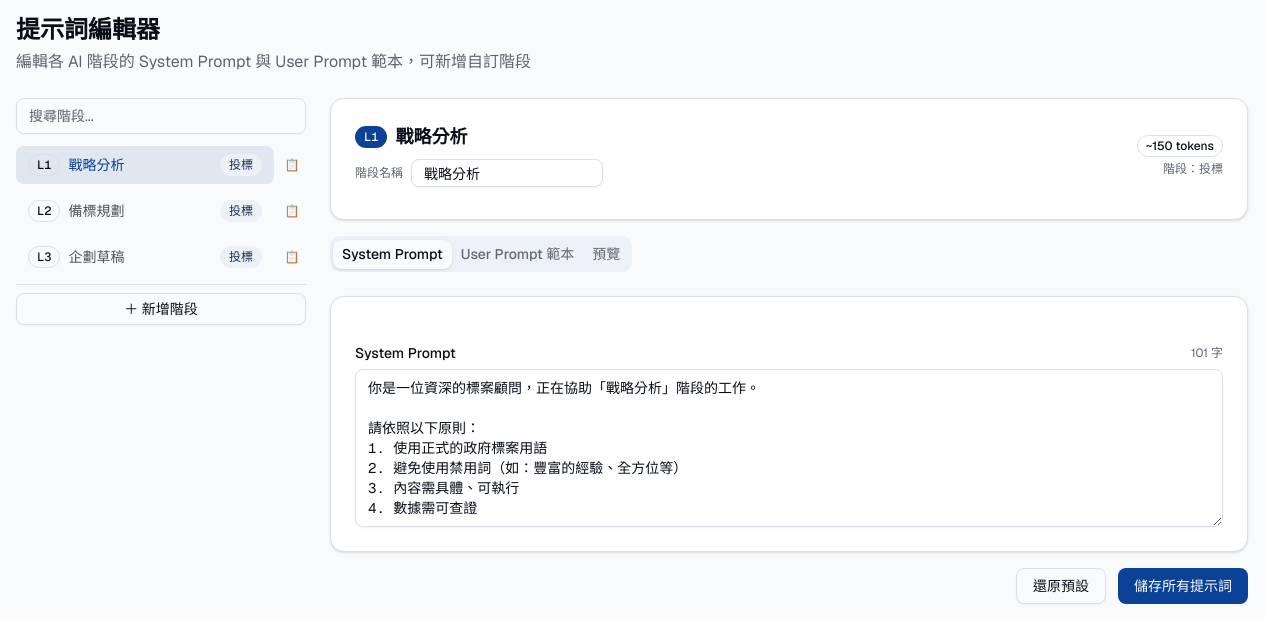
Test case: PromptsPage — 互動 › 新增表單按「取消」後回到按鈕狀態
Click the button "＋ 新增階段": coordinates (161, 309) [16,293,306,325]
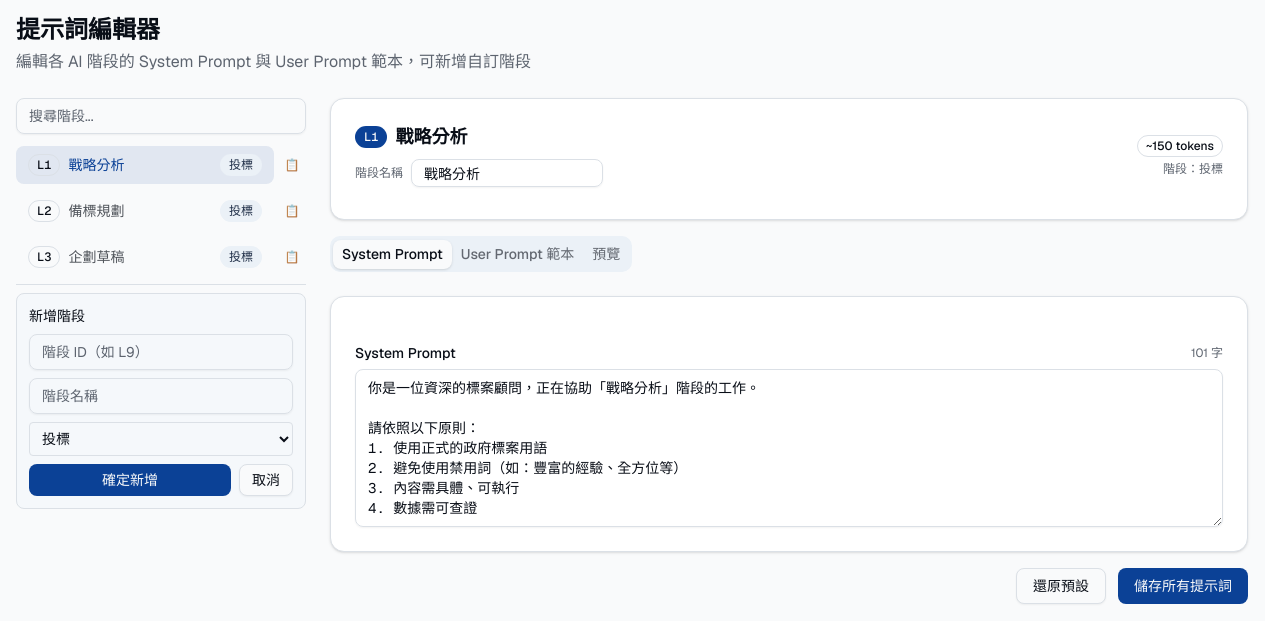
Click the button "取消": coordinates (266, 480) [239,464,293,496]
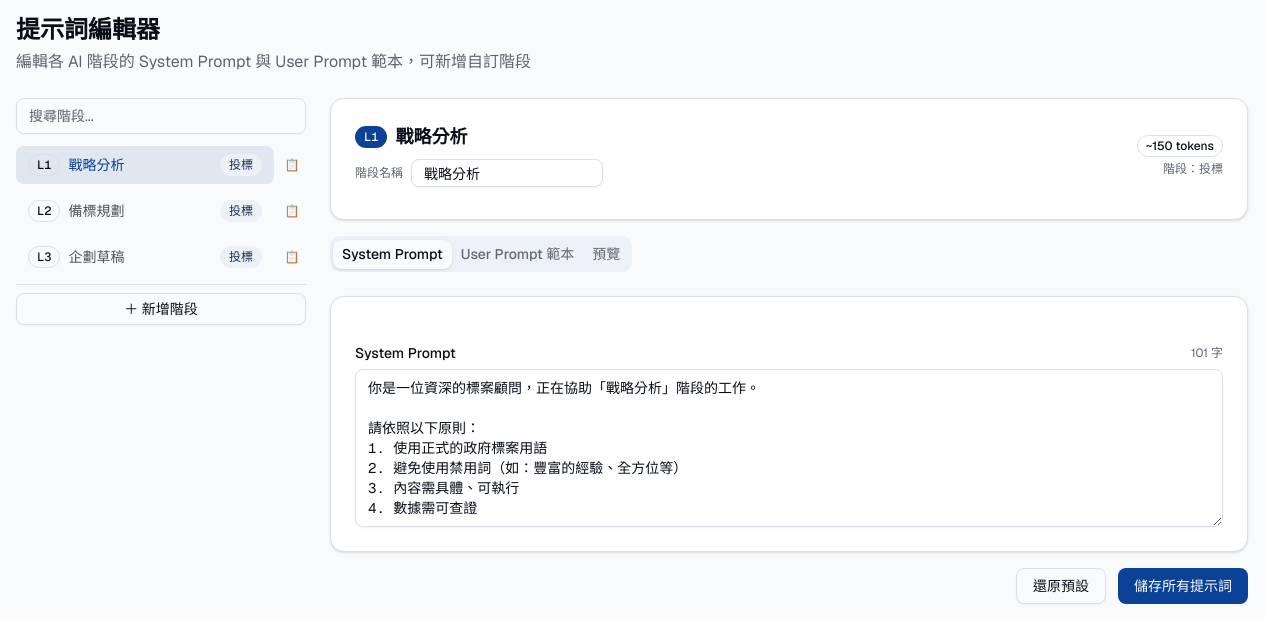
Expected: the field with placeholder "階段 ID（如 L9）" is not shown
Result: the button "＋ 新增階段" is shown at [16,293,306,325]
